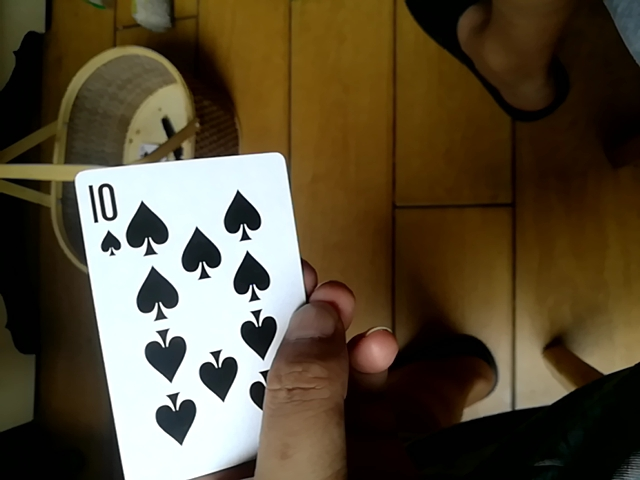ht 10: (72, 150, 306, 476)
